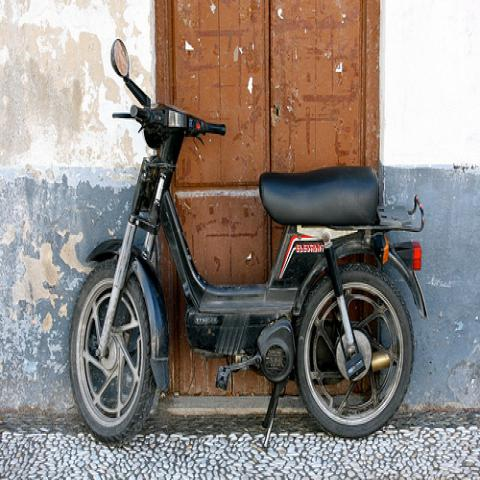motorcycle: (69, 39, 433, 446)
